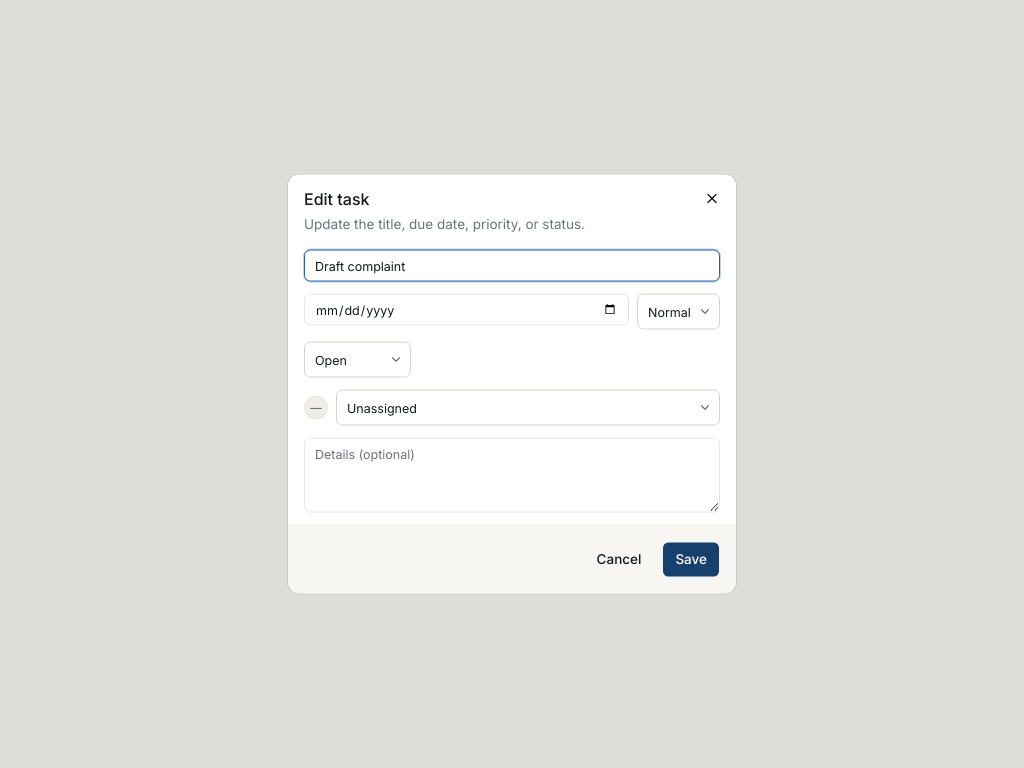
Test case: EditTaskDialog - keeps what the user typed › shows a stale-version error from the server
What coordinates should you click on to do the following:
click the button "Save"
I would click on:
 (691, 560)
Its box is [662,542,720,578].
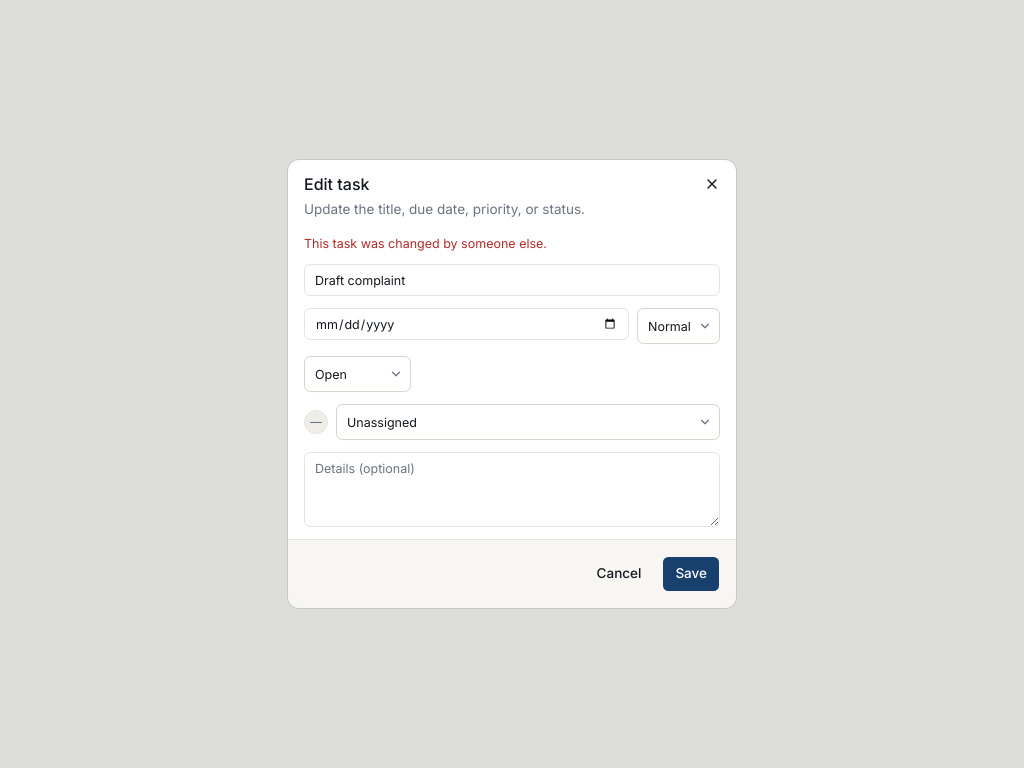
Now the text "This task was changed by someone else." is shown, box [304,236,547,251]
